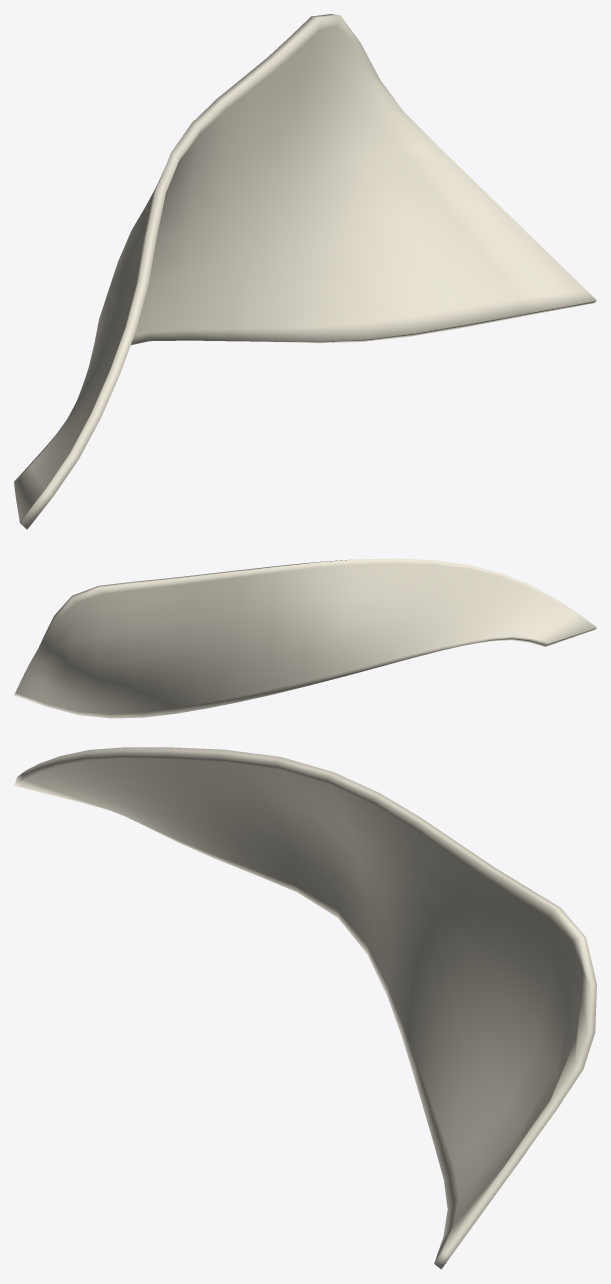
3 views of the same model, one above another, from view 1: azimuth 30°, elevation 25°; view 2: azimuth 150°, elevation 25°; view 3: azimuth 270°, elevation 25° (orthographic). The views are drawn at different scales.
Parts seen in each view (by area): view 1: ZA_cd69ed96f64b214b; view 2: ZA_cd69ed96f64b214b; view 3: ZA_cd69ed96f64b214b.
Part boxes in pixels (x1=…): ZA_cd69ed96f64b214b: x1=14, y1=14, x2=596, y2=529; ZA_cd69ed96f64b214b: x1=14, y1=558, x2=596, y2=718; ZA_cd69ed96f64b214b: x1=14, y1=747, x2=596, y2=1269.
Bounding box in the file's own units: 0.0449 × 0.0166 × 0.0309.
